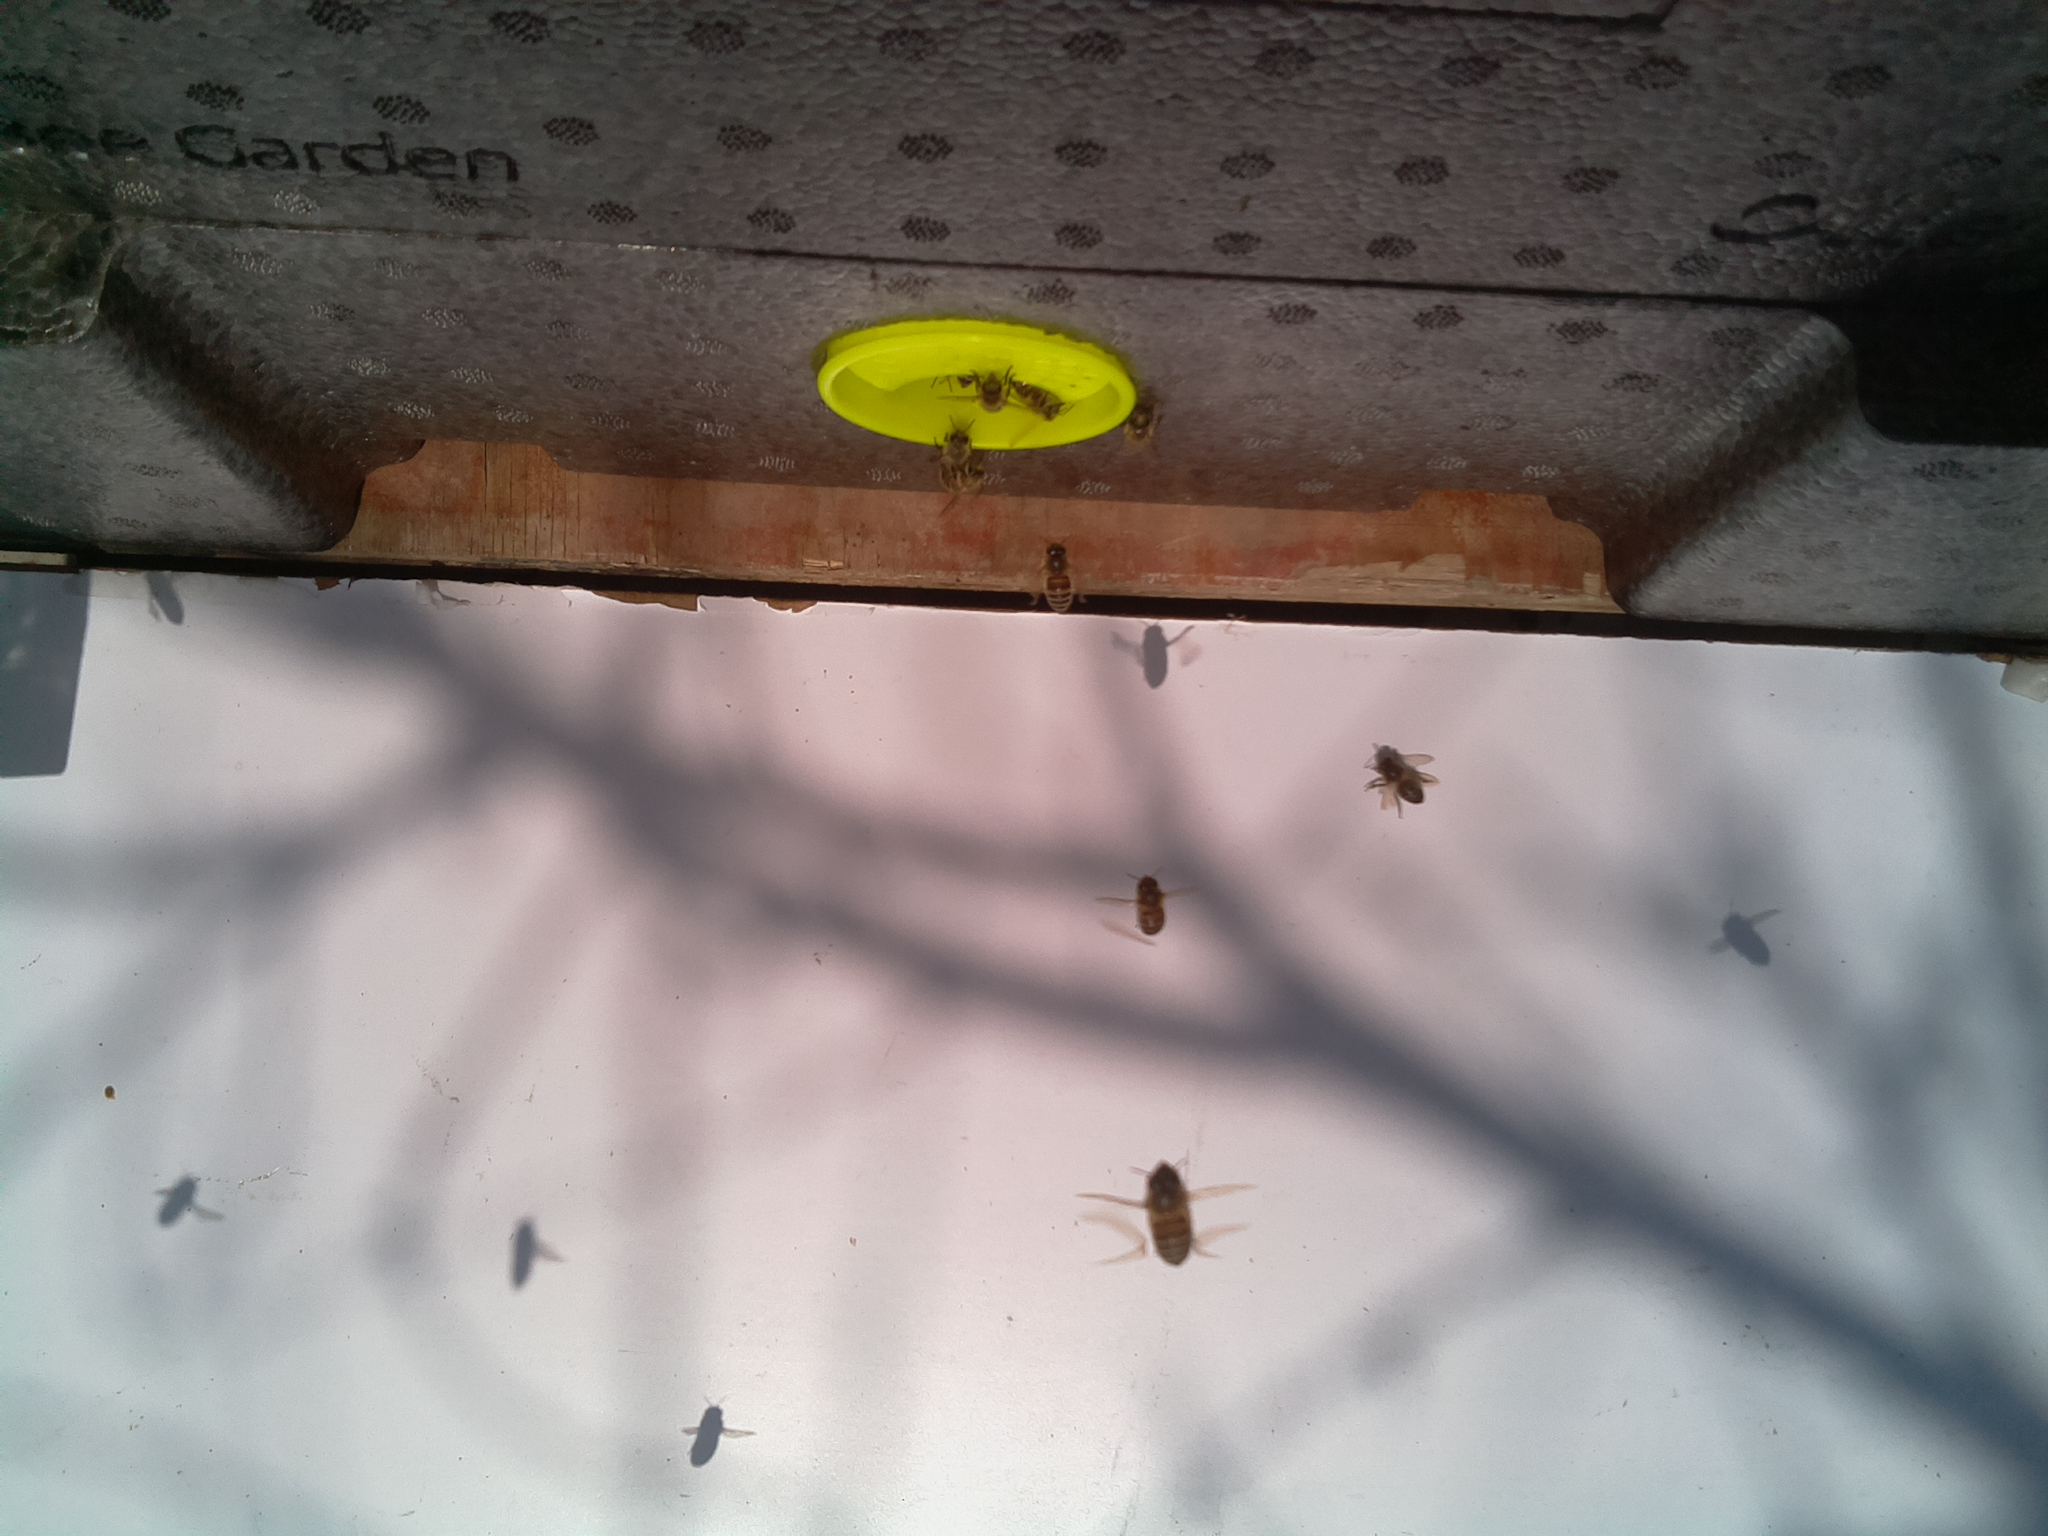bee: (1136, 1158, 1200, 1270), (1373, 742, 1429, 812), (1039, 541, 1076, 615), (1129, 872, 1169, 937)
